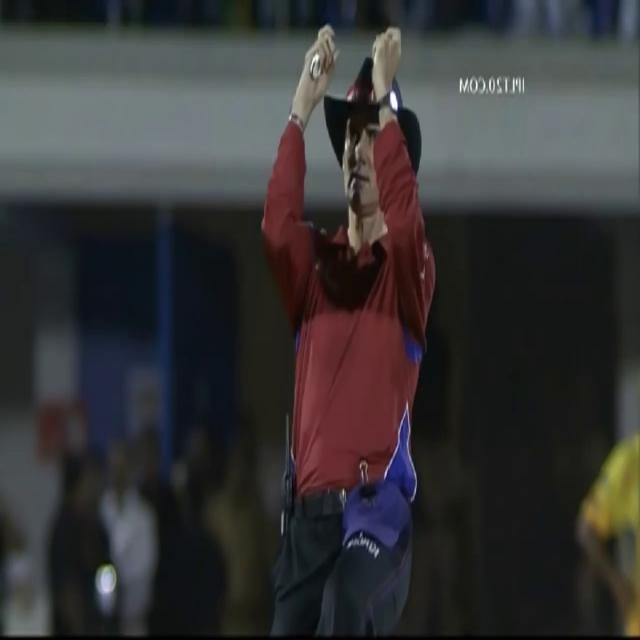Six: (248, 16, 448, 640)
